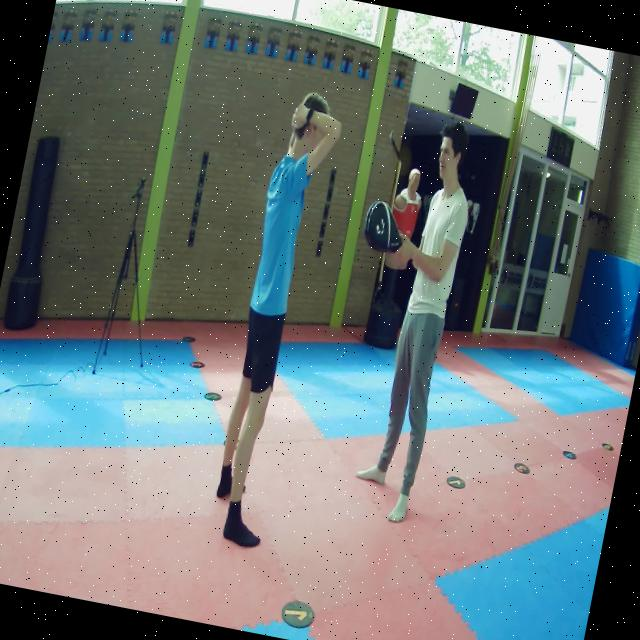paddle: (364, 201, 404, 253)
